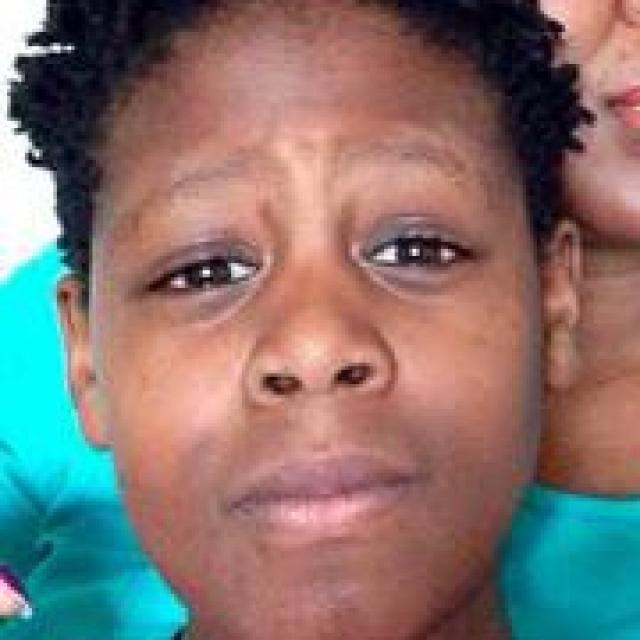Depress: (91, 0, 546, 636)
